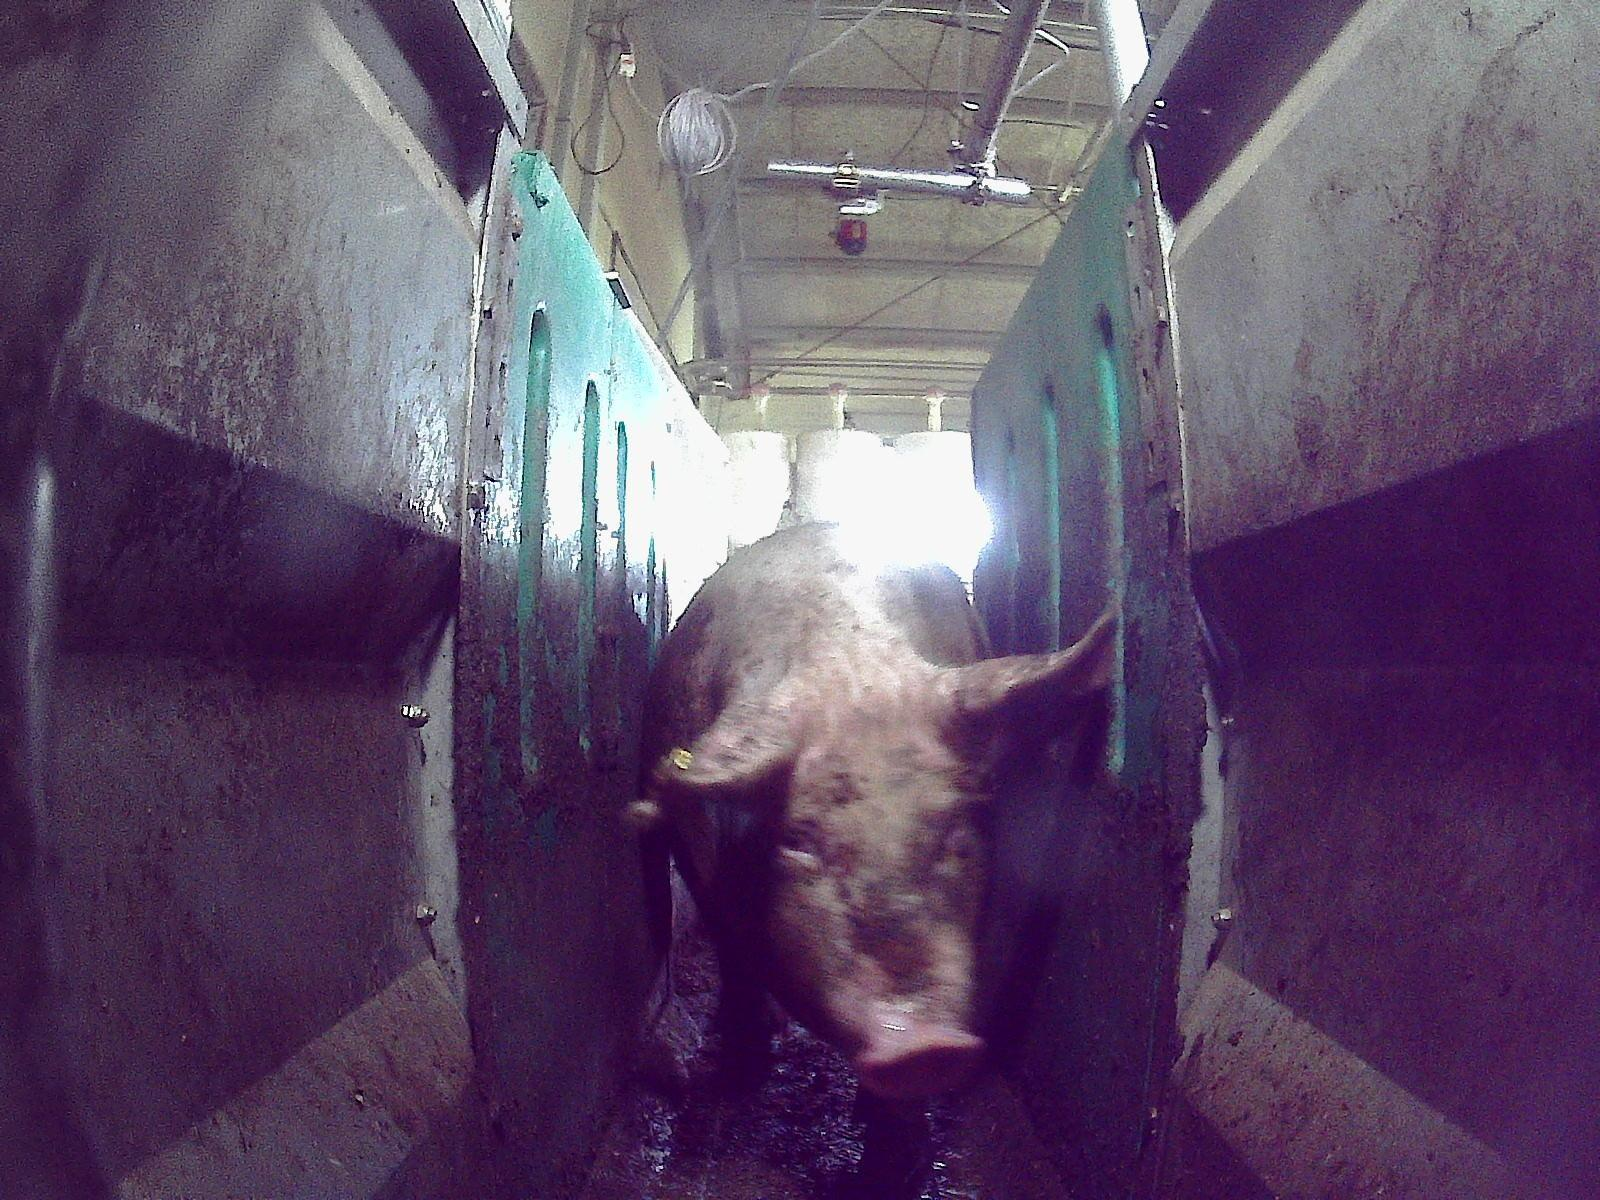Face: (705, 678, 991, 1106)
